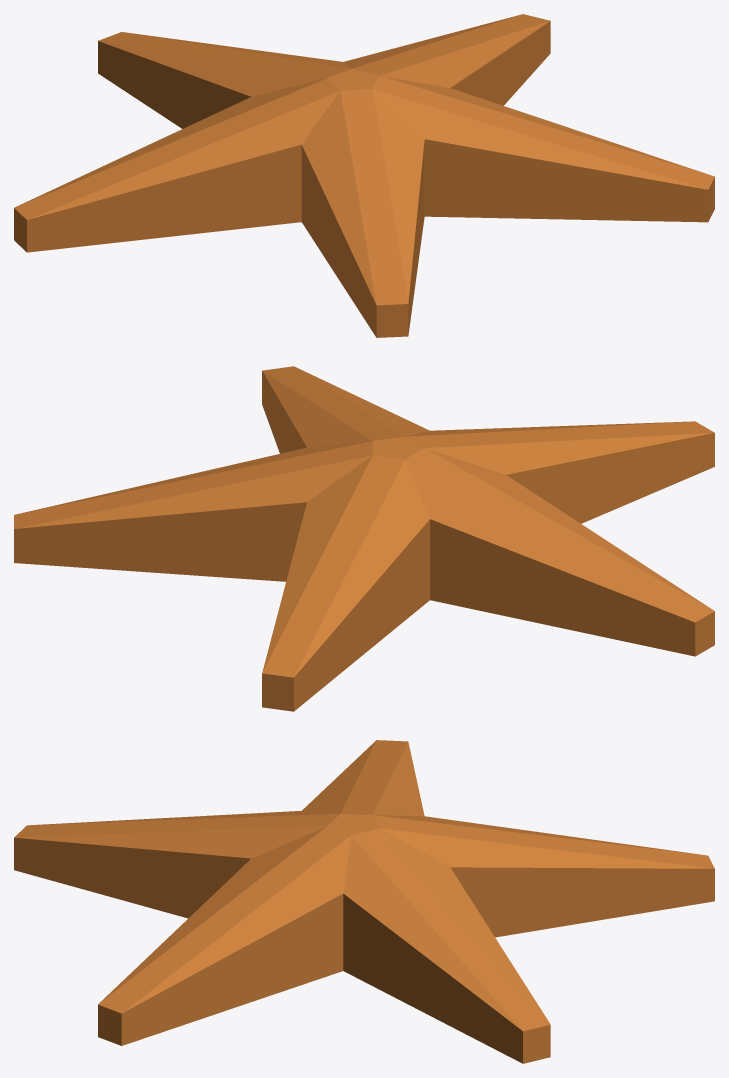
The model's file is Starfish2_tex.fbx.
The picture shows the model from 3 angles, top to bottom: view 1: azimuth 30°, elevation 25°; view 2: azimuth 150°, elevation 25°; view 3: azimuth 270°, elevation 25°; orthographic projection. The views are drawn at different scales.
Visible parts, largest first — view 1: Starfish2_tex; view 2: Starfish2_tex; view 3: Starfish2_tex.
Part boxes in pixels (left/top/right/bottom): Starfish2_tex: left=14, top=14, right=714, bottom=337; Starfish2_tex: left=14, top=366, right=714, bottom=711; Starfish2_tex: left=14, top=740, right=714, bottom=1063.
Size of the model in its own units: 0.768 by 0.1267 by 0.7808.
